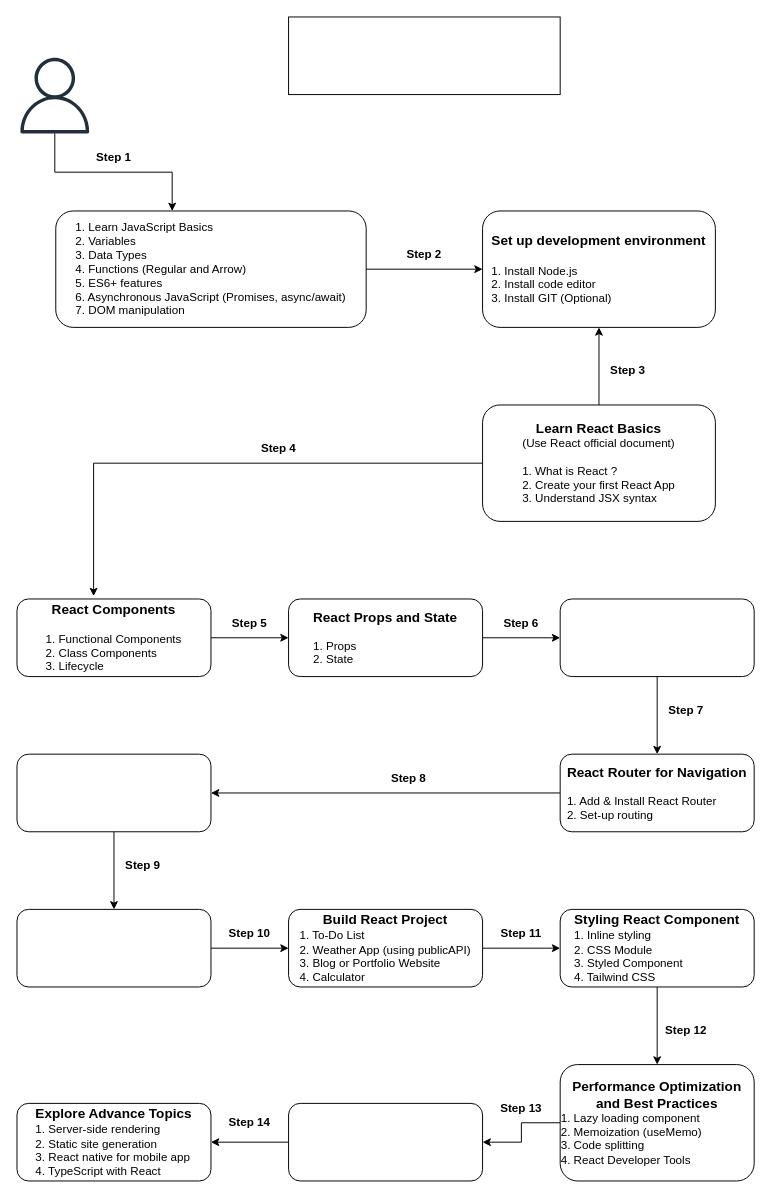
The diagram is 771 pixels wide and 1198 high, and some of its shapes have lost their labels. The shapes that lost their labels are listed below. From the top down, each one's centre as x and y in pixels, then its label:
At [424,55]: "React.js road map".
At [656,637]: "Event handling and Forms 1. Event Handling 2. Forms in React".
At [113,792]: "React Hooks 1. useState 2. useEffect".
At [113,947]: "Learn State Management (Optional but important) 1. Redux 2. Context API".
At [385,1141]: "Deploy Application 1. Github pages 2. Netlify 3. Vercel".
